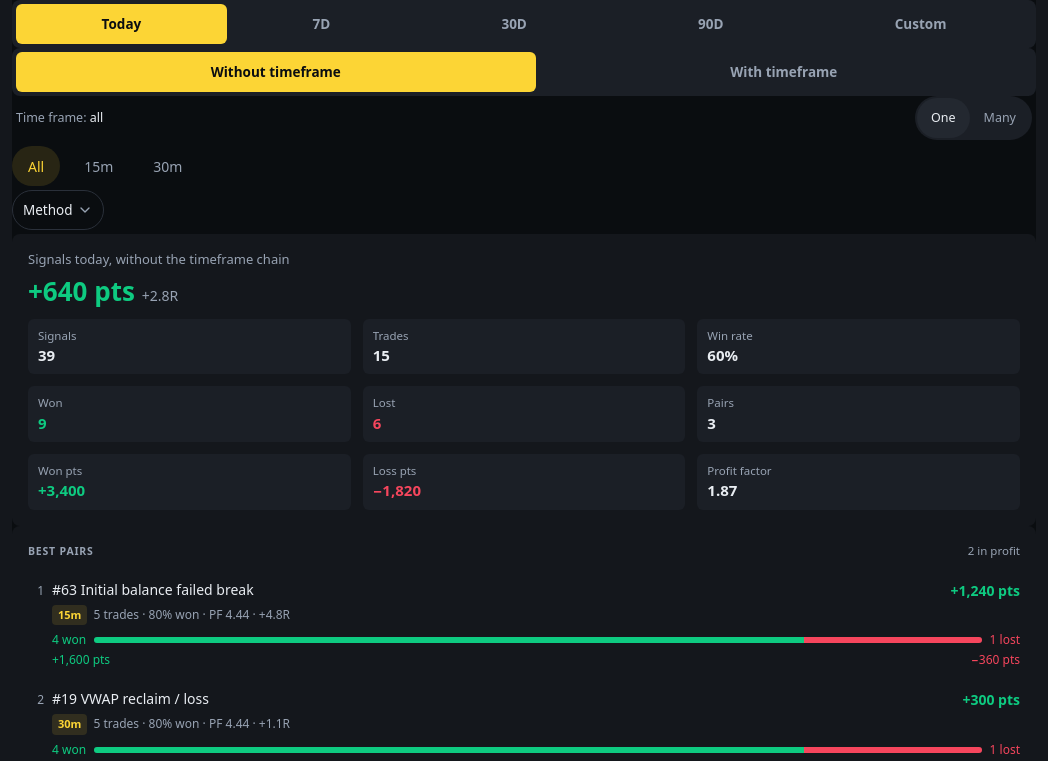
it: SignalPairsScreen › with the chain there is no timeframe to pick: the row is gone, and a pick made before does not narrow it
Click the radio button with aria-label "With the timeframe chain".
click(784, 72)  # box 536,52 -> 1032,92
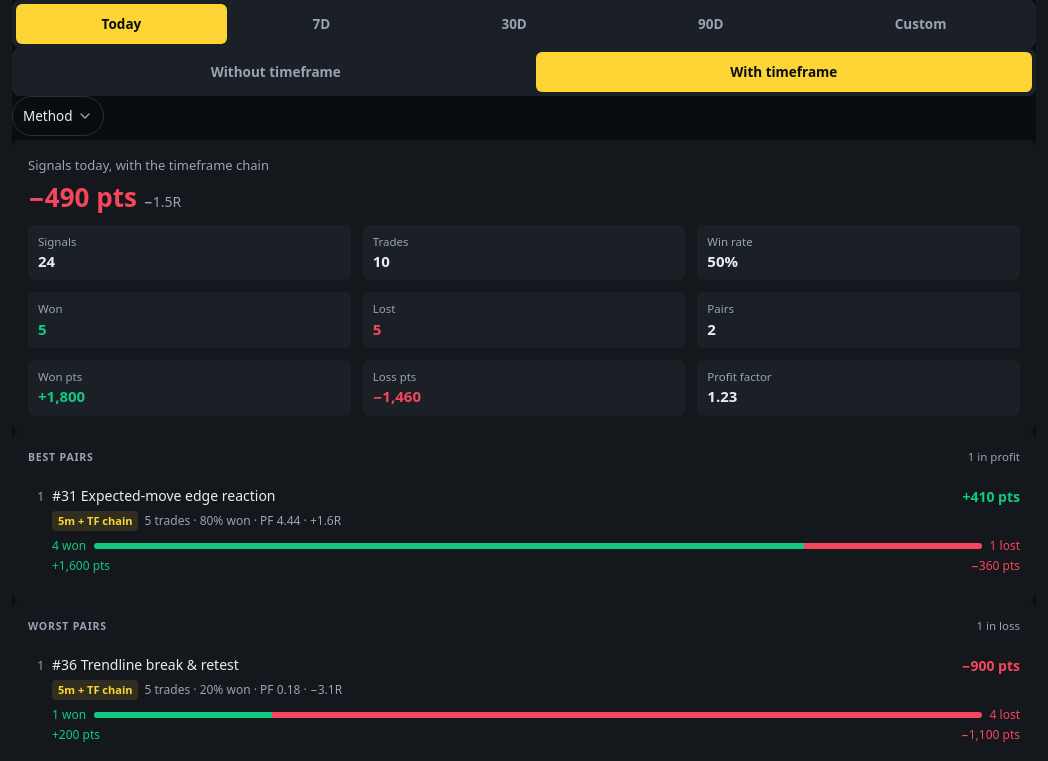
Check: the element "Time frame" is gone
Check: the list item that starts with "#31 Expected-move edge reaction" is shown, box 52,486 -> 276,504
